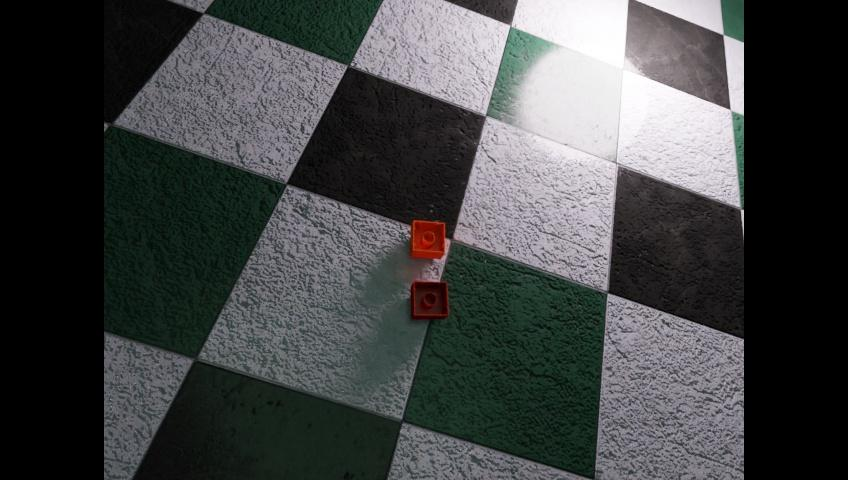2x2_orange: (410, 220, 444, 258)
2x2_red: (411, 280, 447, 319)
